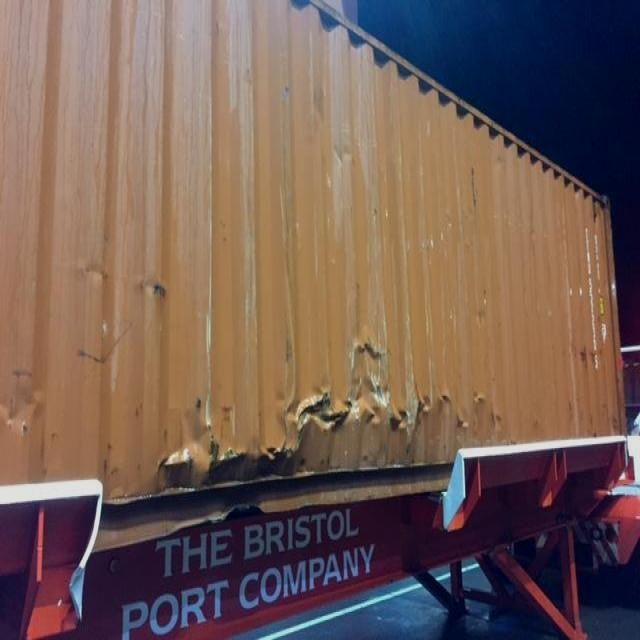Dent: (2, 368, 54, 441), (330, 132, 358, 177), (84, 254, 110, 284)
Hole: (296, 386, 355, 436), (211, 441, 250, 478), (159, 445, 195, 485), (350, 332, 389, 366), (265, 440, 296, 477), (148, 279, 179, 307), (391, 405, 411, 433)
